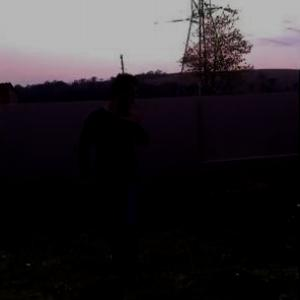follow_hand: (120, 97, 153, 127)
